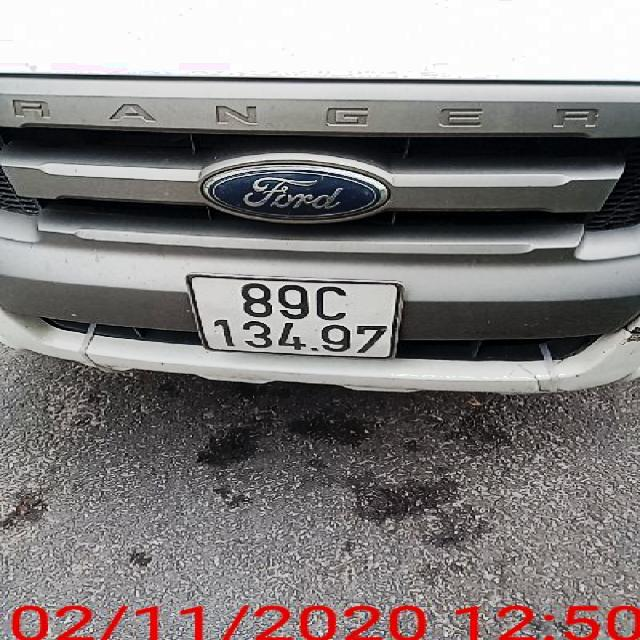license_plate: (196, 275, 401, 355)
